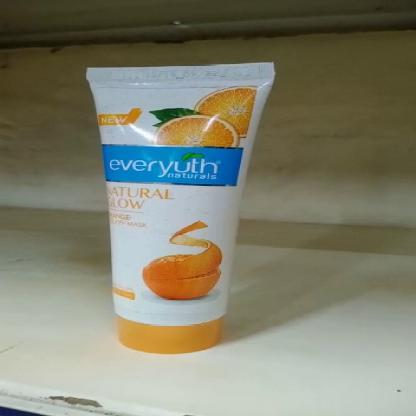EY NAT GLOW ORANGE PEEL OFF AY 90G: (84, 63, 265, 354)
